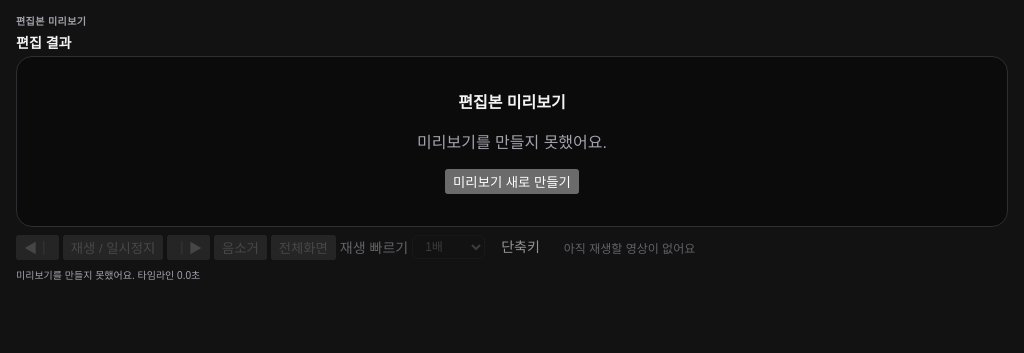
PreviewStage › keeps a failed refresh recoverable instead of leaving an unhandled action
Click the button "미리보기 새로 만들기". click: (512, 182)
box: [445,169,579,194]
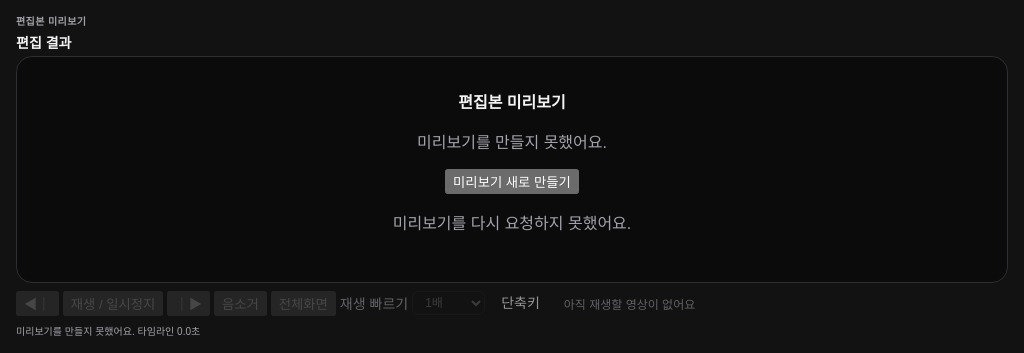
Expected: the message "미리보기를 다시 요청하지 못했어요." is shown, [393,210,631,234]
